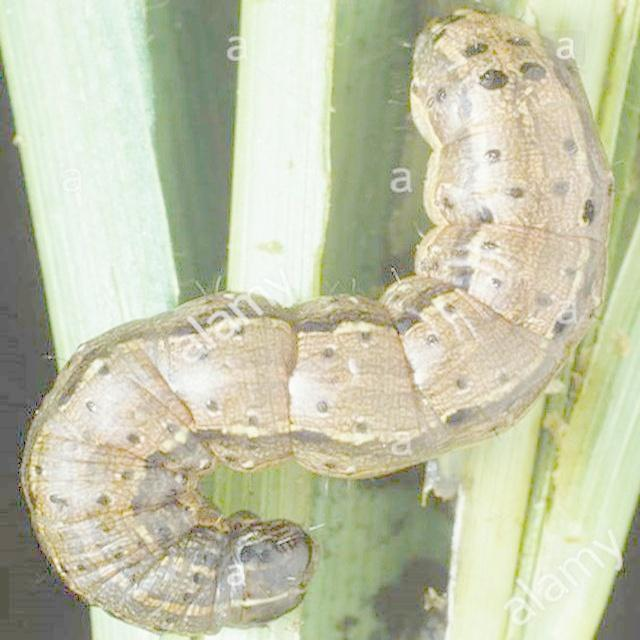worm: (18, 7, 617, 639)
